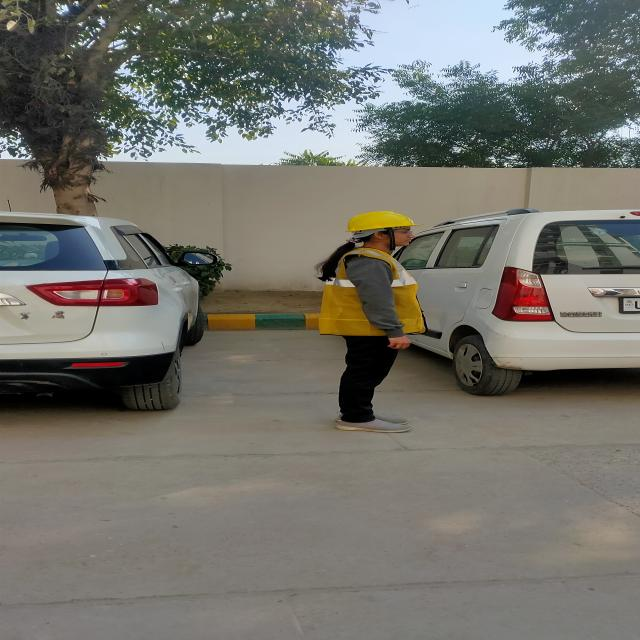safe: (319, 212, 425, 432)
